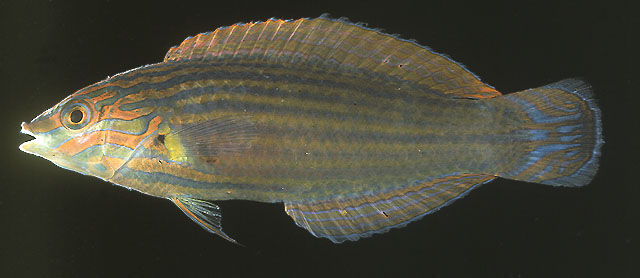fish: (19, 12, 607, 246)
